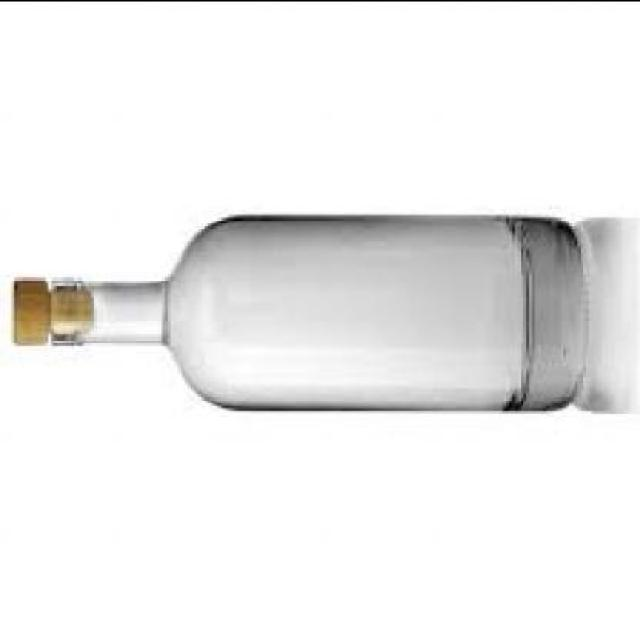glass: (48, 210, 583, 408)
